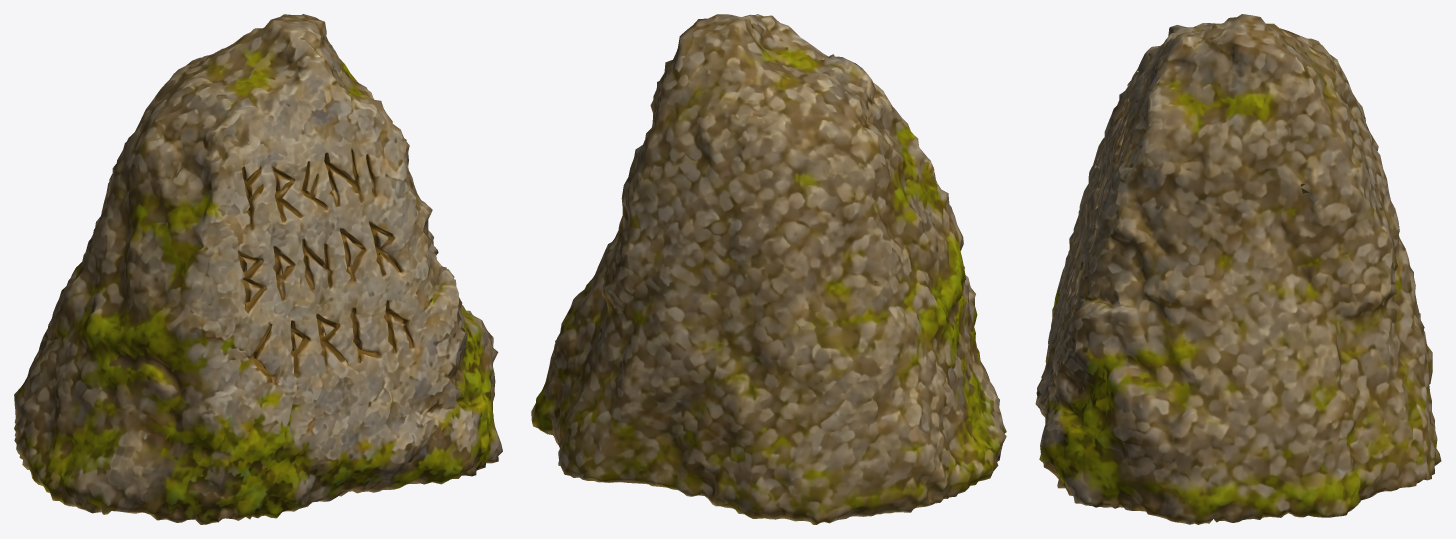
File: WatchStoneLow.fbx
The picture shows the model from 3 angles, left to right: view 1: azimuth 30°, elevation 25°; view 2: azimuth 150°, elevation 25°; view 3: azimuth 270°, elevation 25°; orthographic projection. The views are drawn at different scales.
Visible parts, largest first — view 1: geometry_0; view 2: geometry_0; view 3: geometry_0.
Boxes of the visible parts, bbox=[...] form: geometry_0: bbox=[14, 14, 502, 524]; geometry_0: bbox=[531, 14, 1006, 524]; geometry_0: bbox=[1035, 14, 1441, 524].
Bounding box in the file's own units: 95.9 × 88.62 × 77.34.
Materials: 1 (1 with a texture image).
